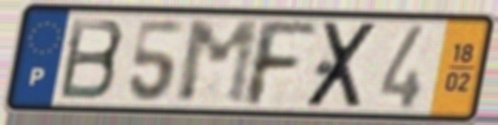4: (375, 21, 429, 113)
5: (125, 16, 184, 105)
B: (55, 15, 128, 103)
F: (244, 16, 321, 110)
M: (174, 18, 262, 108)
X: (301, 19, 383, 111)
